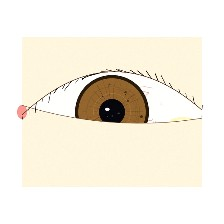pinguecula_lesion: (157, 101, 208, 142)
